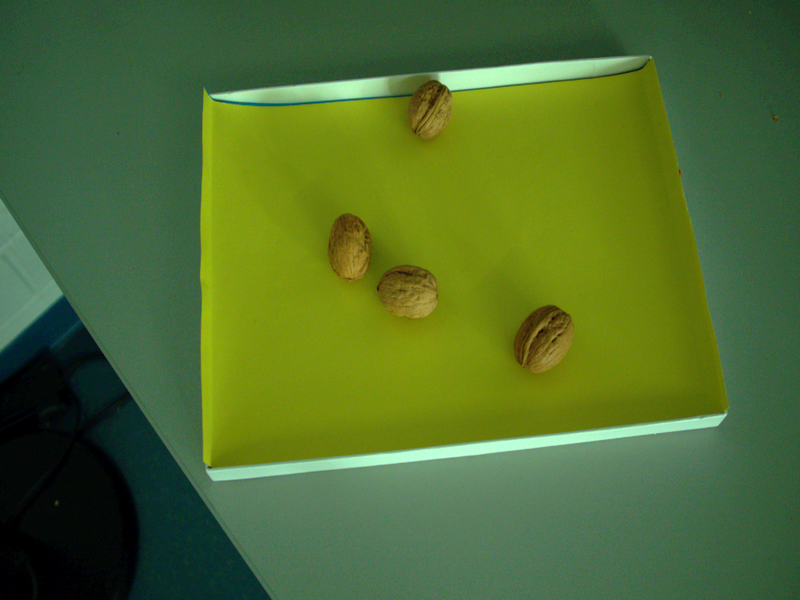walnut: (510, 296, 582, 381), (321, 206, 379, 285), (373, 262, 446, 323), (405, 77, 458, 145)
